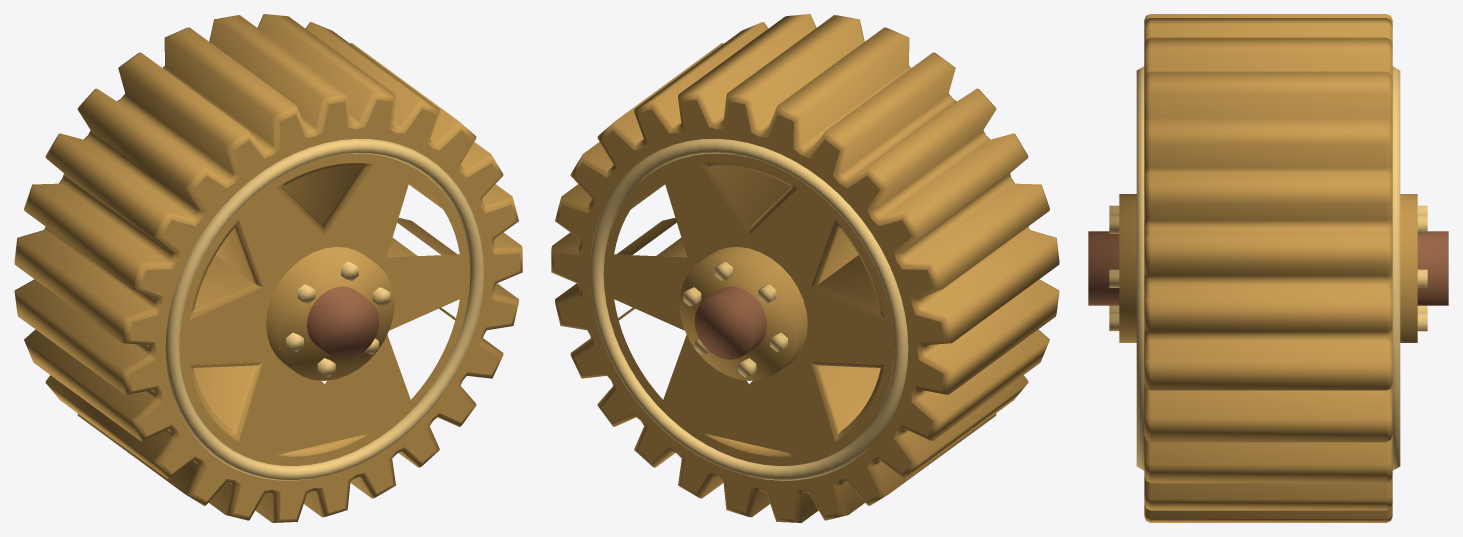
Rendered from gear-25.glb.
3 views of the same model, side by side, from view 1: azimuth 30°, elevation 25°; view 2: azimuth 150°, elevation 25°; view 3: azimuth 270°, elevation 25° (orthographic). The views are drawn at different scales.
Parts seen in each view (by area): view 1: gear; view 2: gear; view 3: gear.
Part boxes in pixels (x1=…): gear: x1=14, y1=14, x2=522, y2=522; gear: x1=551, y1=14, x2=1059, y2=522; gear: x1=1088, y1=14, x2=1448, y2=522.
Size of the model in its own units: 2.05 by 2.05 by 1.45.
